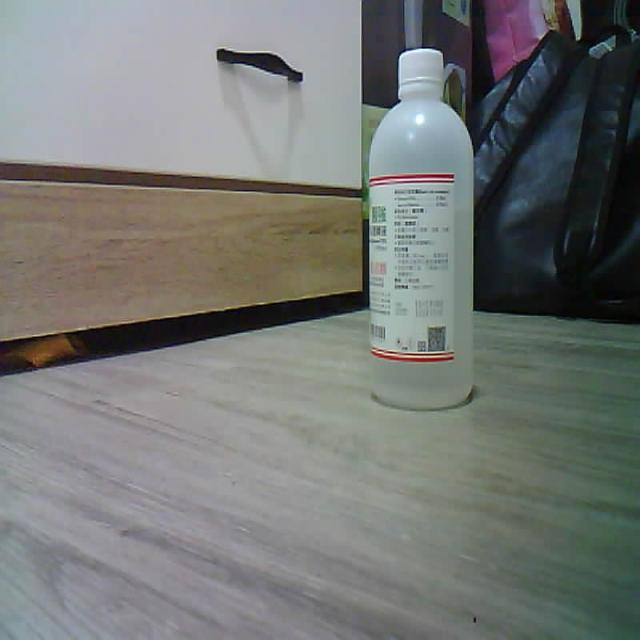bottle: (368, 49, 473, 409)
